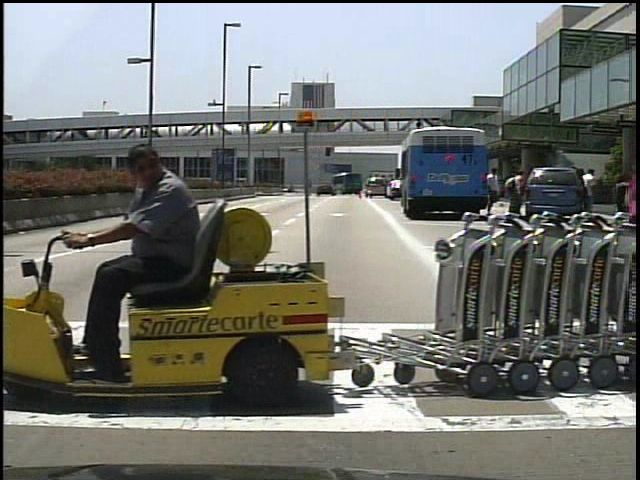person: (94, 139, 210, 378), (600, 119, 637, 350), (506, 166, 526, 219), (580, 165, 601, 214), (487, 164, 504, 216)
